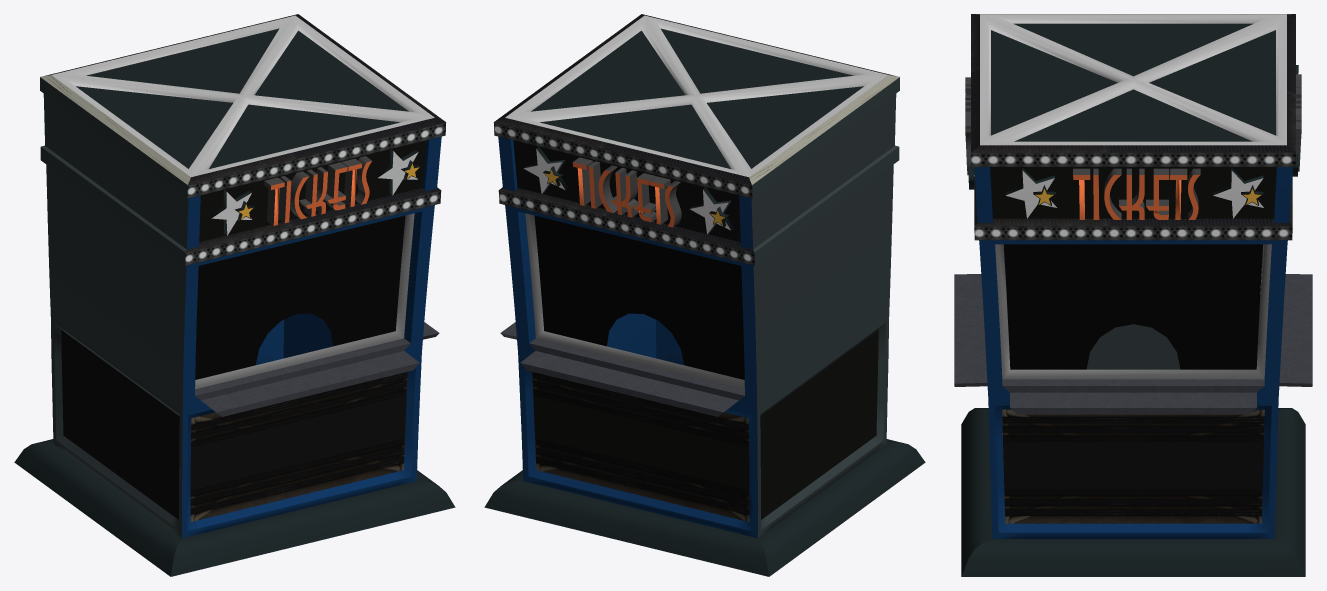
Rendered from park_ticket_booth.glb.
3 renders of one model, left to right at view 1: azimuth 30°, elevation 25°; view 2: azimuth 150°, elevation 25°; view 3: azimuth 270°, elevation 25°, orthographic. The views are drawn at different scales.
Visible parts, largest first — view 1: Cube; view 2: Cube; view 3: Cube.
Part boxes in pixels (x1,y1,x2,y2): Cube: [14, 14, 455, 576]; Cube: [484, 14, 925, 576]; Cube: [954, 14, 1312, 576].
Size of the model in its own units: 2.49 by 3.16 by 2.41.
2 materials, 2 textured.
